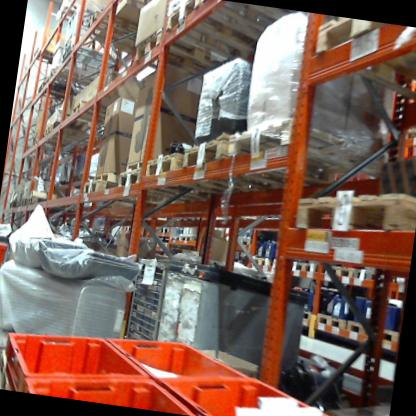pallet: (222, 112, 394, 186), (301, 14, 416, 107), (292, 169, 416, 255), (172, 130, 312, 198), (131, 22, 257, 96), (142, 145, 274, 208), (156, 0, 276, 69), (113, 162, 210, 209), (79, 12, 147, 60), (67, 95, 128, 138), (27, 77, 90, 112), (47, 62, 98, 94), (38, 124, 90, 152), (79, 175, 118, 200), (120, 151, 152, 181), (0, 322, 21, 367), (26, 43, 60, 68), (345, 267, 379, 291), (369, 329, 398, 354), (289, 255, 318, 277), (317, 262, 353, 279), (316, 311, 344, 332), (94, 168, 124, 186), (270, 253, 294, 273), (55, 0, 78, 20), (297, 305, 317, 325), (246, 254, 270, 270), (153, 221, 174, 239), (230, 230, 253, 246), (25, 193, 44, 210), (24, 188, 46, 201), (347, 317, 364, 330), (403, 127, 416, 144), (16, 196, 29, 210), (176, 230, 191, 241), (118, 223, 134, 230), (169, 231, 178, 241)
small_load_carrier: (157, 354, 389, 416), (0, 319, 158, 403), (10, 360, 208, 416), (98, 327, 245, 402), (0, 277, 9, 307), (0, 241, 8, 267)
stillage: (124, 245, 173, 341)
